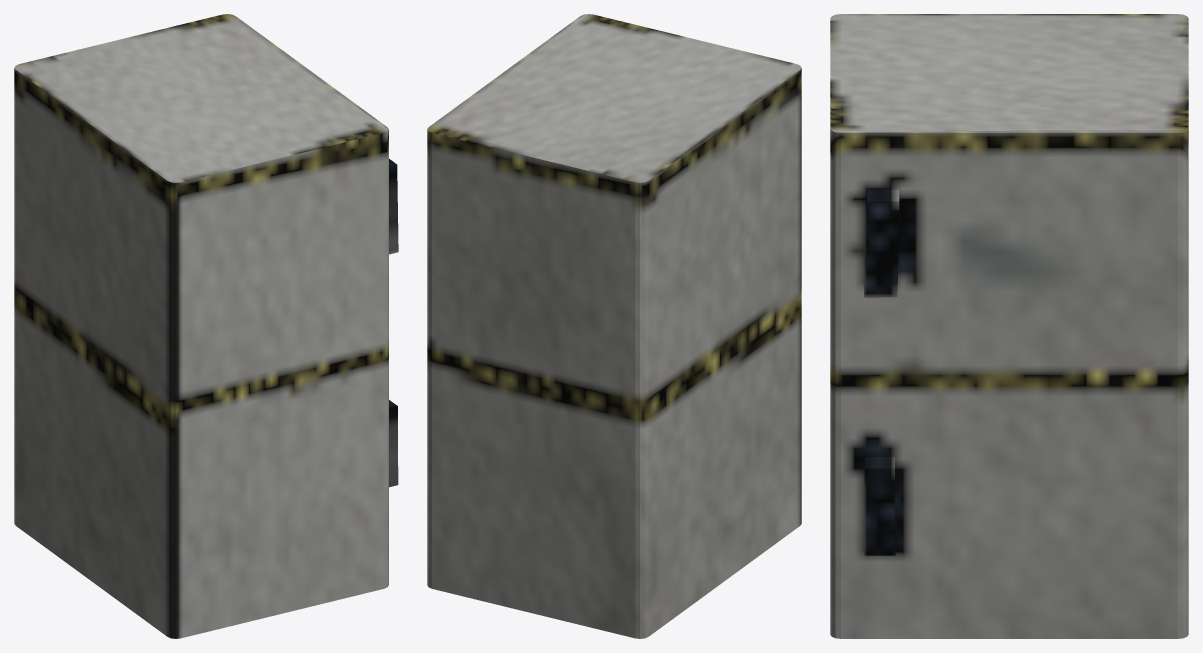
File: crustyFridge.glb
3 views of the same model, side by side, from view 1: azimuth 30°, elevation 25°; view 2: azimuth 150°, elevation 25°; view 3: azimuth 270°, elevation 25° (orthographic). The views are drawn at different scales.
Visible parts, largest first — view 1: Cube; view 2: Cube; view 3: Cube.
Part boxes in pixels (x1,y1,x2,y2): Cube: (14,14,398,638); Cube: (427,14,801,638); Cube: (830,14,1188,638).
Bounding box in the file's own units: 4.1 × 7.39 × 4.75.
Materials: 1 (1 with a texture image).
